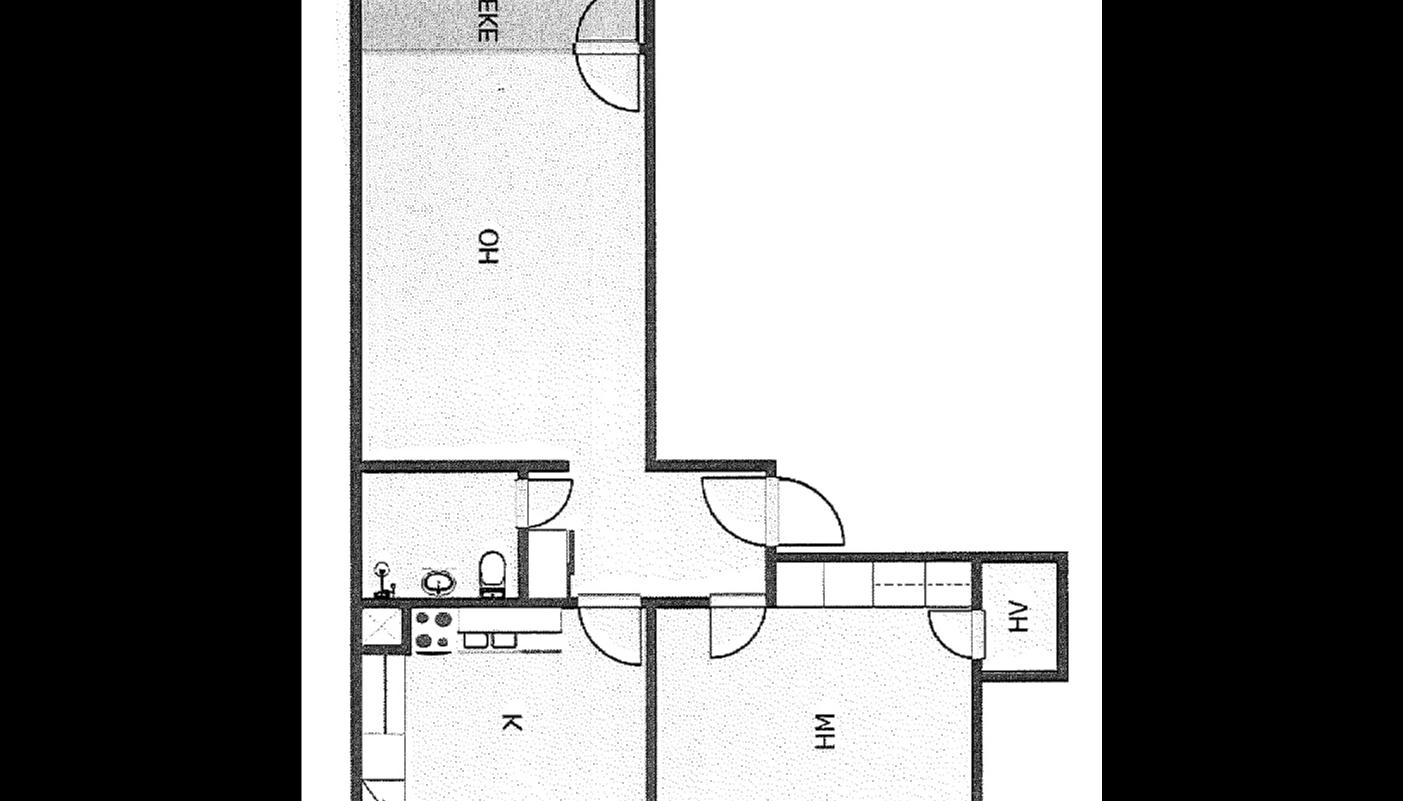door: (764, 473, 852, 551), (694, 473, 779, 552), (566, 40, 648, 115), (574, 591, 646, 670), (704, 590, 770, 664), (565, 0, 643, 55), (922, 607, 990, 662), (511, 474, 578, 528)
